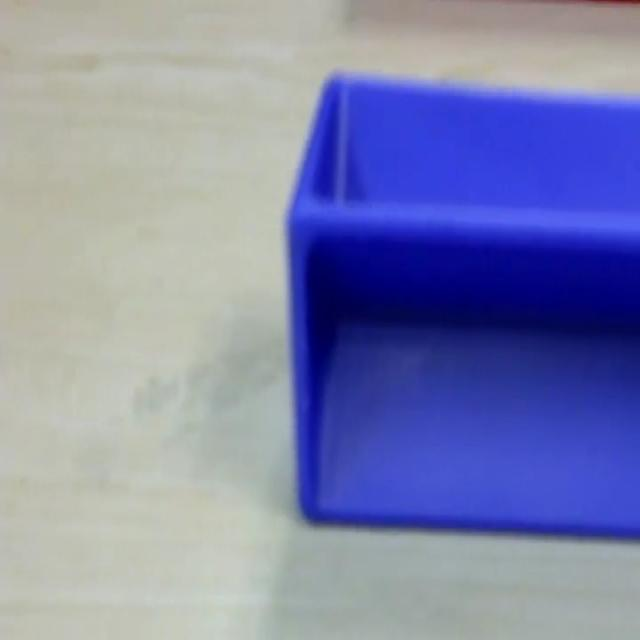blue_block: (286, 68, 639, 540)
